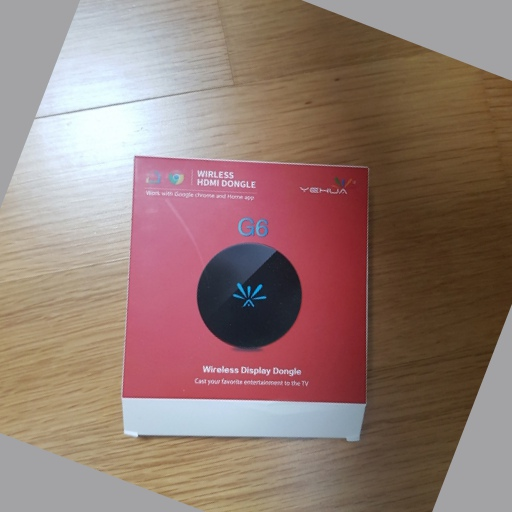Paper_0: (112, 150, 380, 457)
